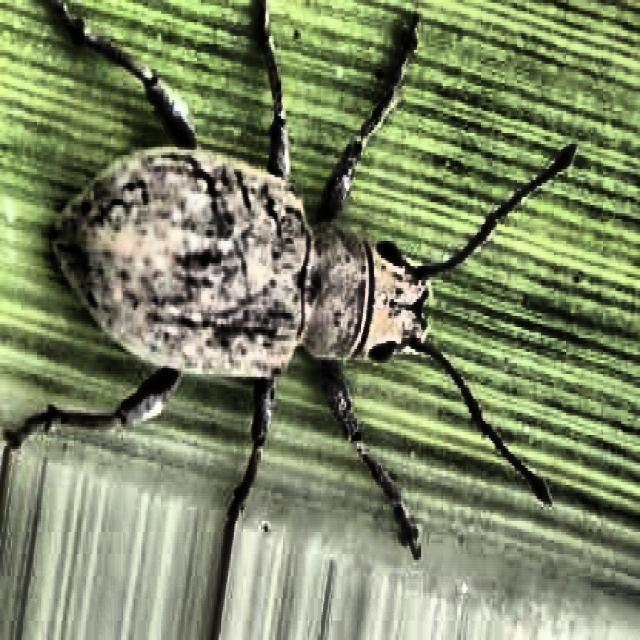Stink bug: (10, 12, 534, 550)
